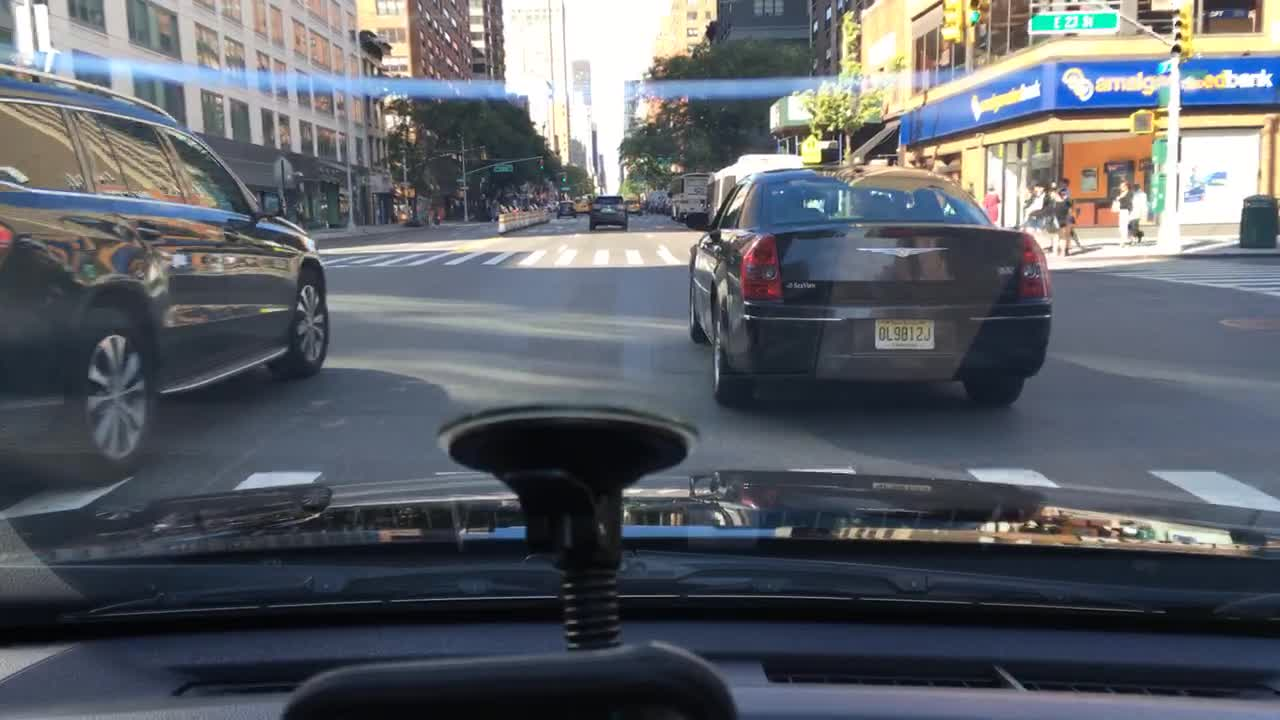car: (0, 62, 327, 486), (688, 164, 1050, 404), (586, 194, 628, 230), (556, 200, 576, 221), (645, 188, 664, 209), (652, 190, 668, 212), (573, 194, 592, 212), (486, 202, 507, 218), (391, 203, 409, 221), (423, 206, 439, 226), (624, 197, 637, 215), (508, 203, 520, 217), (550, 199, 562, 212), (525, 199, 537, 212), (538, 200, 550, 212), (637, 199, 648, 212)
person: (1050, 179, 1077, 253), (1020, 179, 1047, 251), (1023, 185, 1053, 233), (1110, 178, 1130, 248), (1127, 182, 1148, 242), (1061, 206, 1083, 257), (982, 185, 999, 235), (964, 181, 976, 202)
traffic light: (937, 2, 964, 41), (1130, 110, 1151, 133), (967, 0, 987, 23), (1155, 110, 1169, 130), (558, 170, 568, 185), (477, 149, 486, 161), (537, 158, 544, 172)
traffic sign: (1026, 10, 1116, 31), (802, 131, 820, 161), (273, 155, 290, 181), (493, 164, 513, 172), (1157, 62, 1172, 71), (403, 187, 415, 197), (454, 185, 471, 191), (397, 181, 411, 188), (453, 176, 466, 182)
truck: (703, 155, 799, 232), (665, 170, 710, 226)
